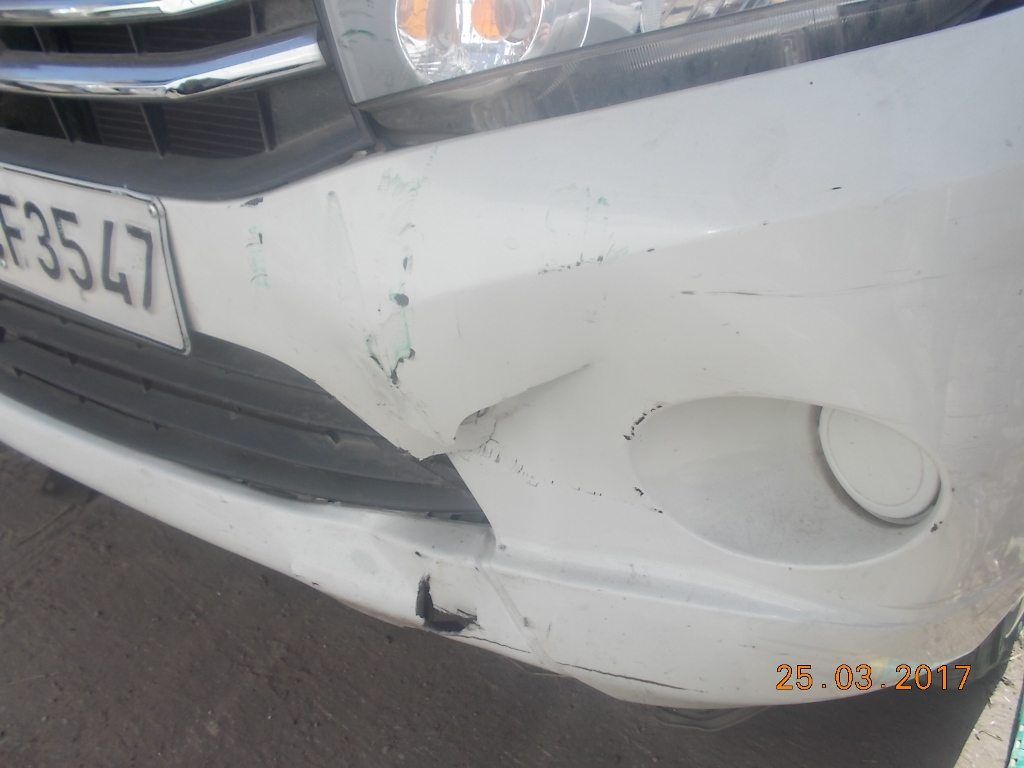Scratch_or_spot: (361, 283, 427, 380), (240, 188, 277, 293)
Tear: (411, 575, 490, 645)
